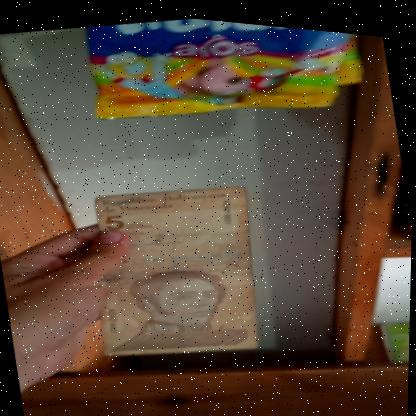five-front-vef: (76, 164, 274, 369)
